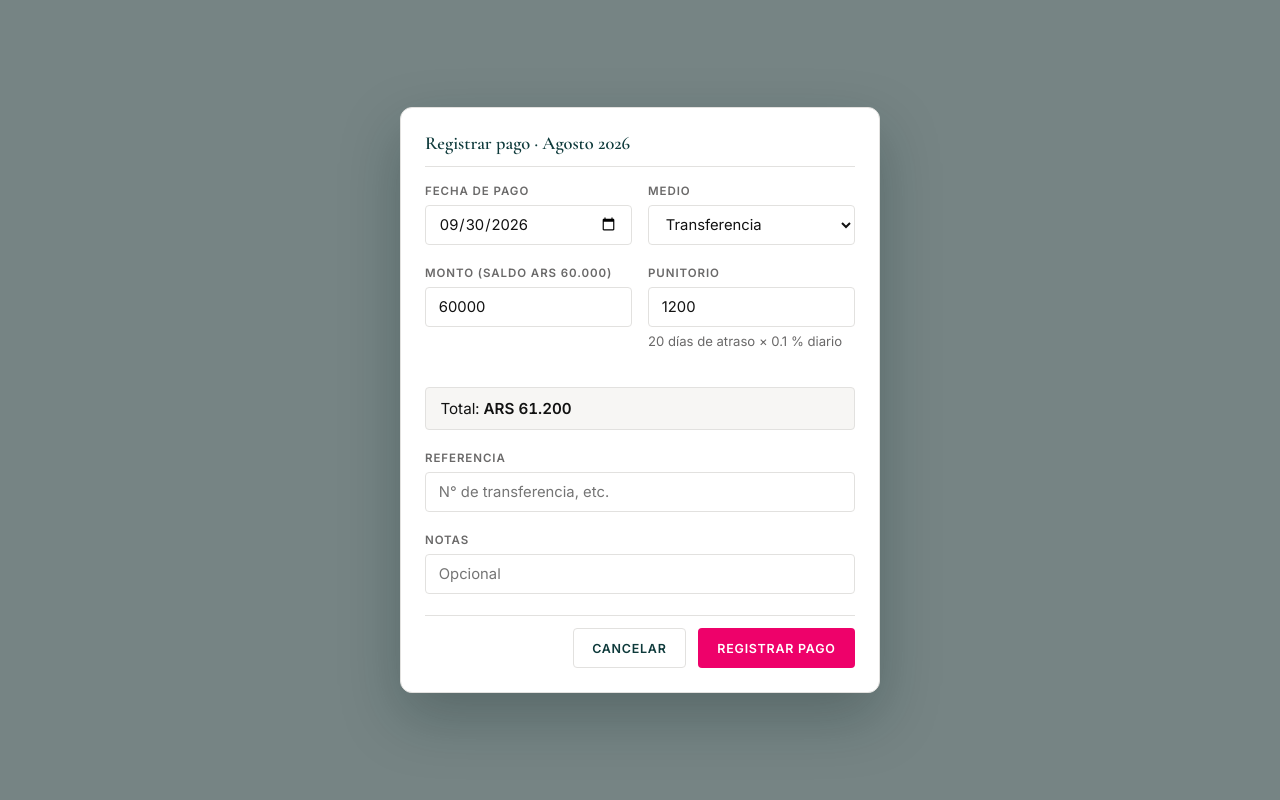
Test: muestra el detail del backend si el registro falla
Expected: the number field labelled "Punitorio" holds "1200", [648, 286, 855, 326]
What coordinates should you click on to do the following:
click the button "Registrar pago"
I would click on:
 (776, 648)
Its box is [698, 628, 855, 668].
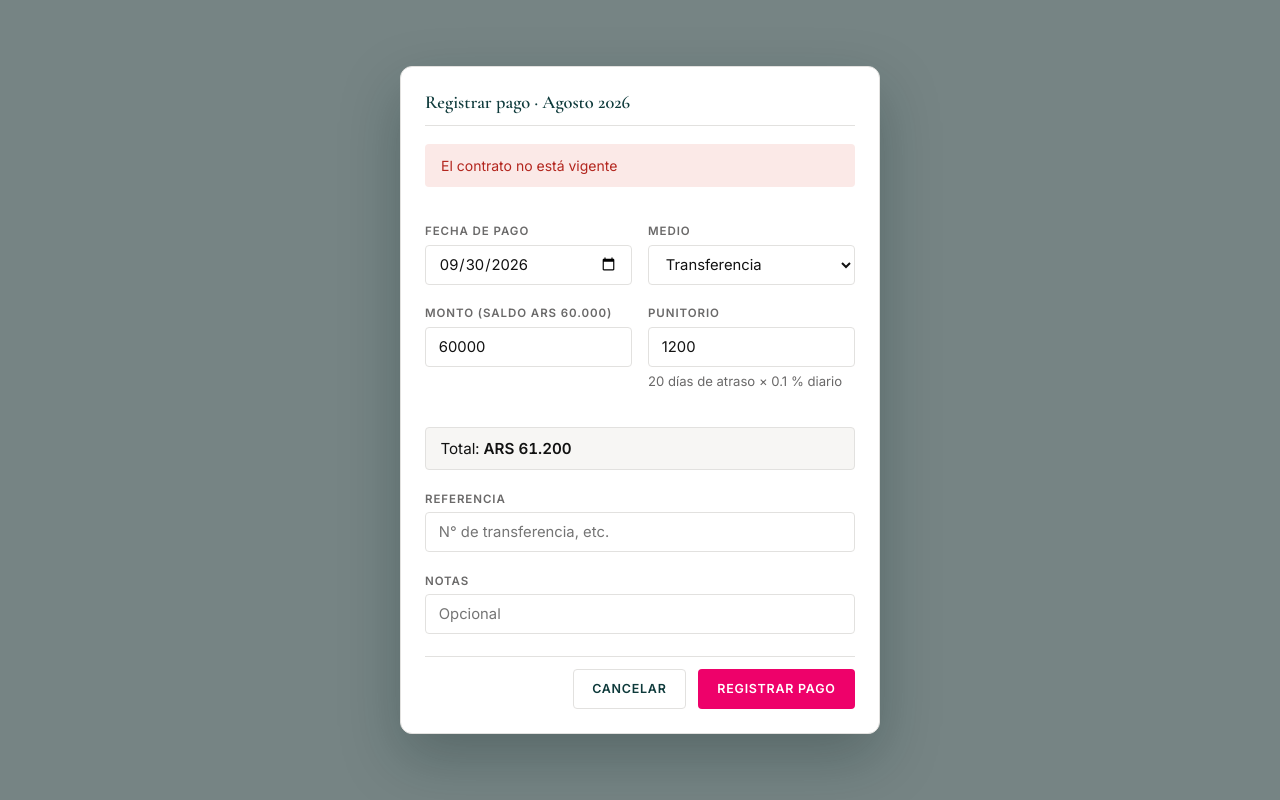
Result: the message reads "El contrato no está vigente" at [441, 157, 617, 174]
